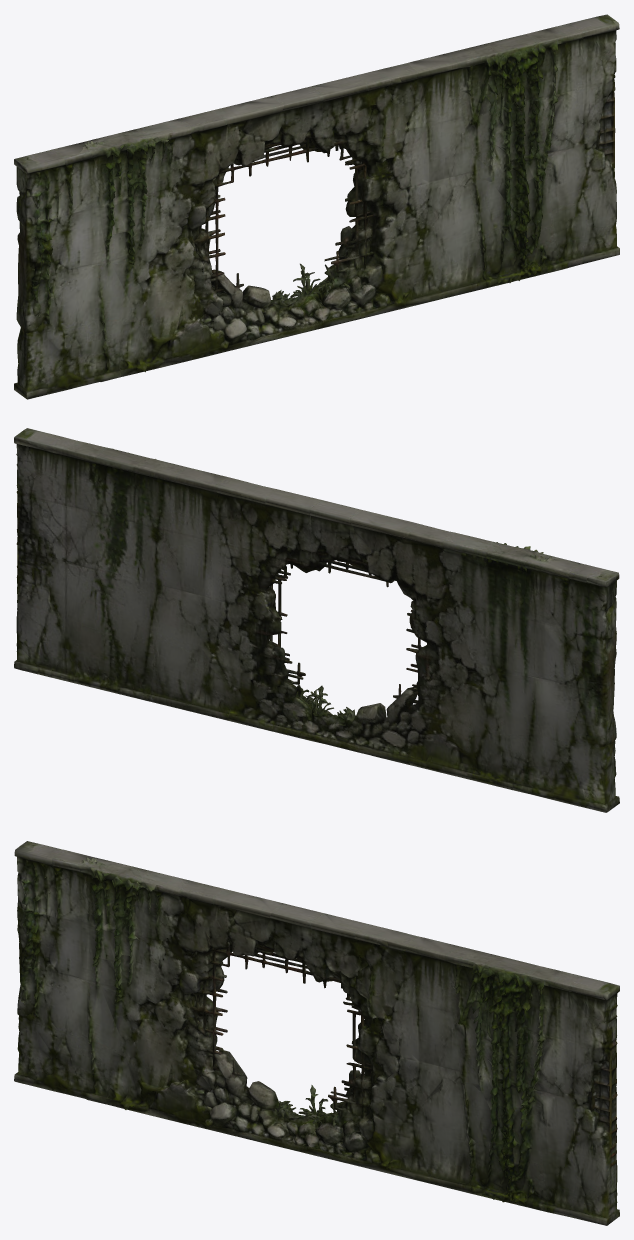
Rendered from wall_breach.glb.
3 renders of one model, top to bottom at view 1: azimuth 30°, elevation 25°; view 2: azimuth 150°, elevation 25°; view 3: azimuth 330°, elevation 25°, orthographic.
Parts seen in each view (by area): view 1: wall_breach; view 2: wall_breach; view 3: wall_breach.
Boxes of the visible parts, bbox=[...] form: wall_breach: bbox=[14, 14, 619, 399]; wall_breach: bbox=[14, 428, 619, 812]; wall_breach: bbox=[14, 841, 619, 1225].
Bounding box in the file's own units: 190 × 71.99 × 11.86.
1 material, 1 textured.
